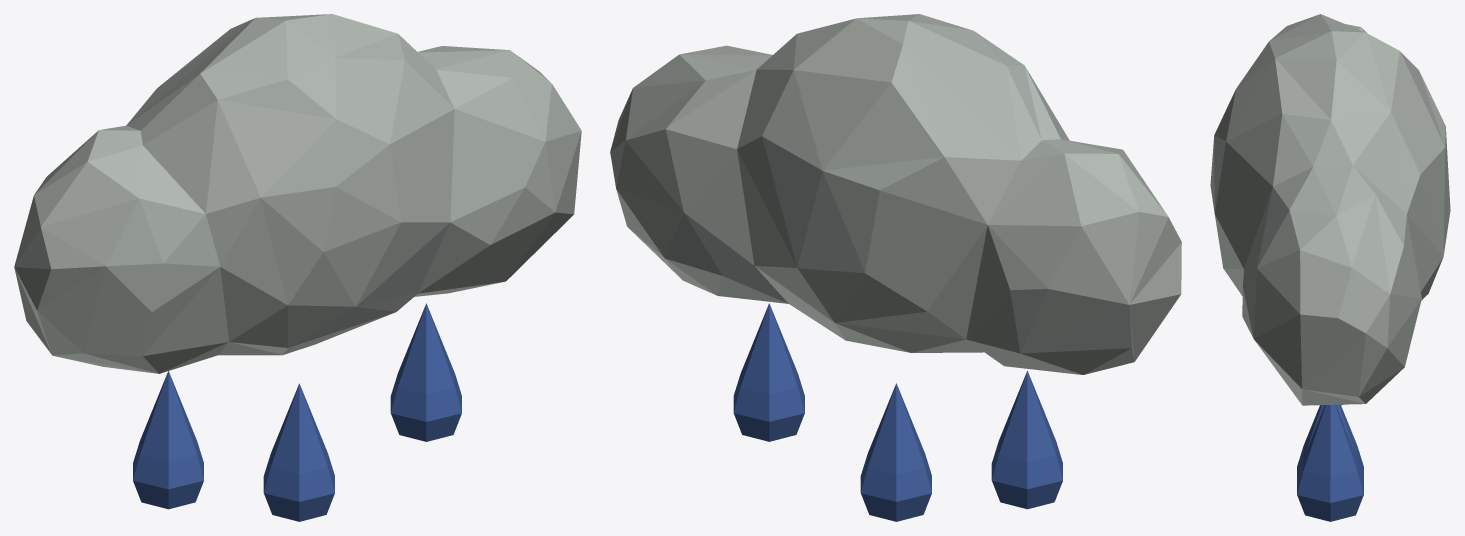
The model's file is SM_Icon_Weather_Rain_01.fbx.
The picture shows the model from 3 angles, left to right: view 1: azimuth 30°, elevation 25°; view 2: azimuth 150°, elevation 25°; view 3: azimuth 270°, elevation 25°; orthographic projection. The views are drawn at different scales.
Visible parts, largest first — view 1: SM_Icon_Weather_Rain_01; view 2: SM_Icon_Weather_Rain_01; view 3: SM_Icon_Weather_Rain_01.
Part boxes in pixels (left/top/right/bottom): SM_Icon_Weather_Rain_01: left=14, top=14, right=581, bottom=521; SM_Icon_Weather_Rain_01: left=610, top=14, right=1181, bottom=521; SM_Icon_Weather_Rain_01: left=1210, top=14, right=1450, bottom=521.
Bounding box in the file's own units: 79.2 × 69.75 × 32.1.
